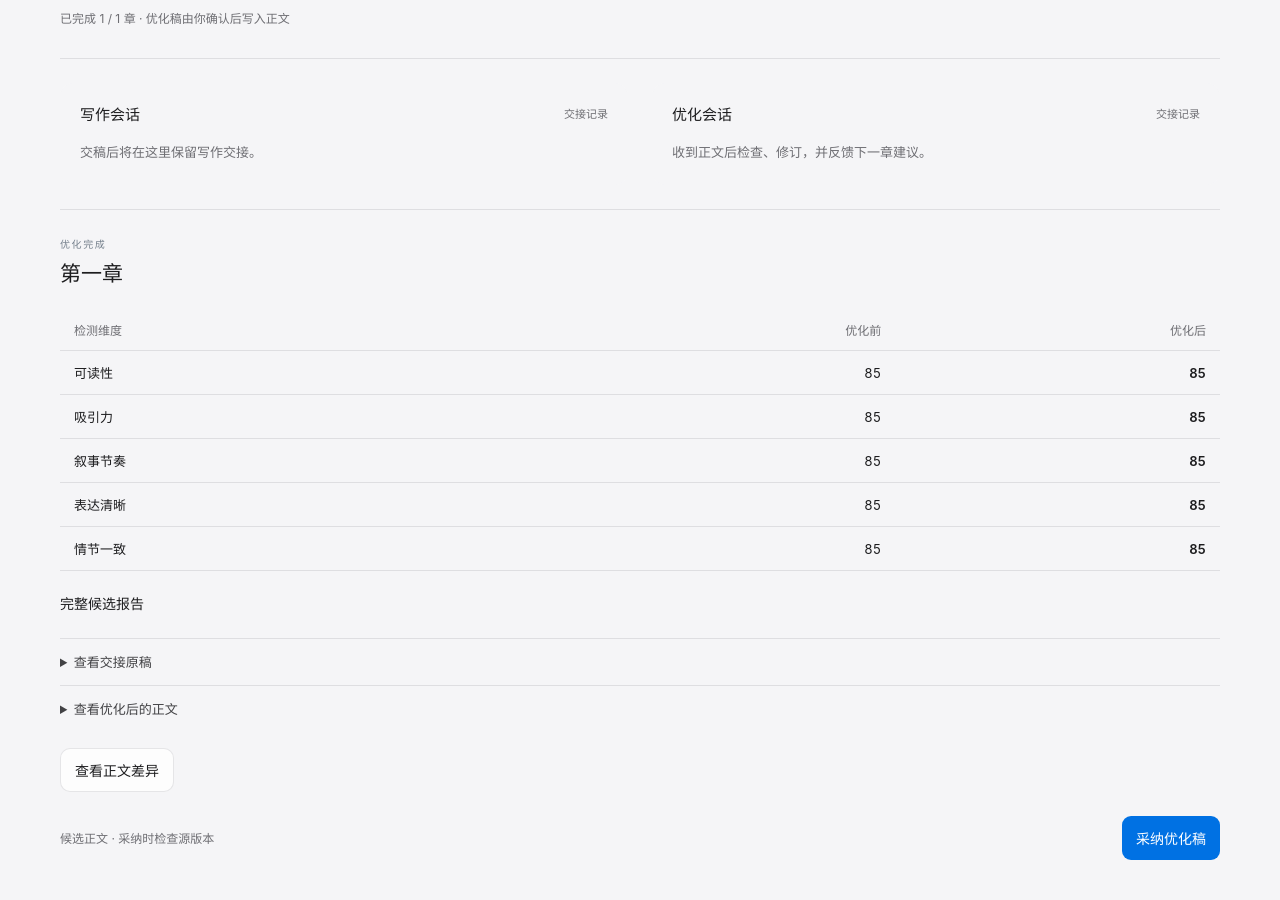
Test: shows comparison but disables partial acceptance for collaboration handoffs
(page scrolled)
Click the button "查看正文差异".
click(117, 770)  # box 60,748 -> 174,792
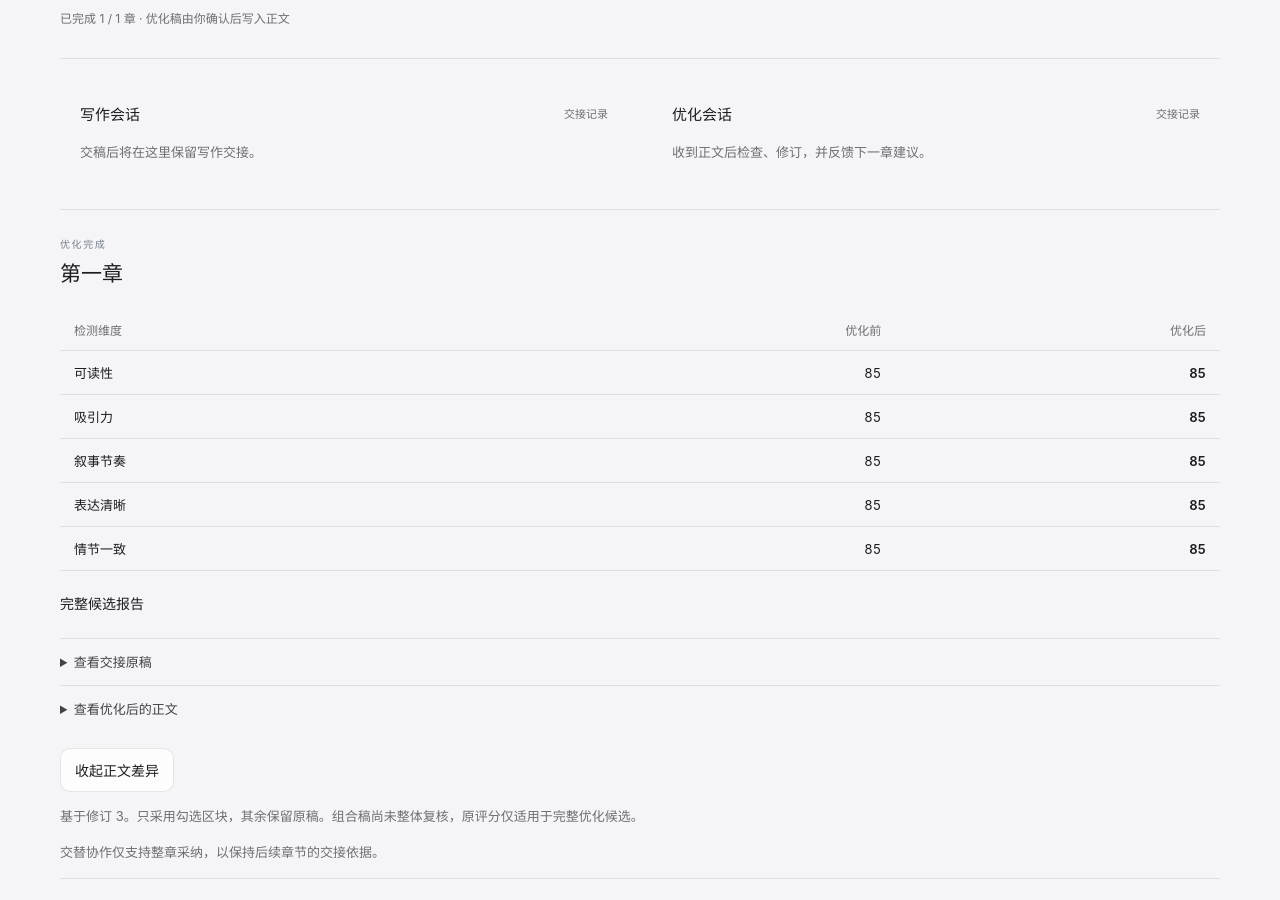
Expected: the text "交替协作仅支持整章采纳，以保持后续章节的交接依据。" is shown, 60,844 -> 385,860
